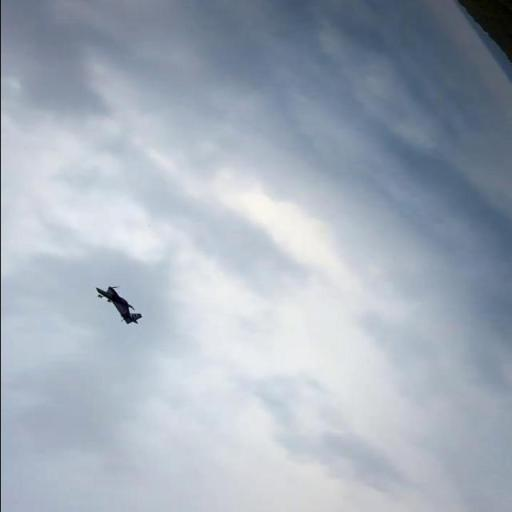uav: (94, 286, 140, 324)
